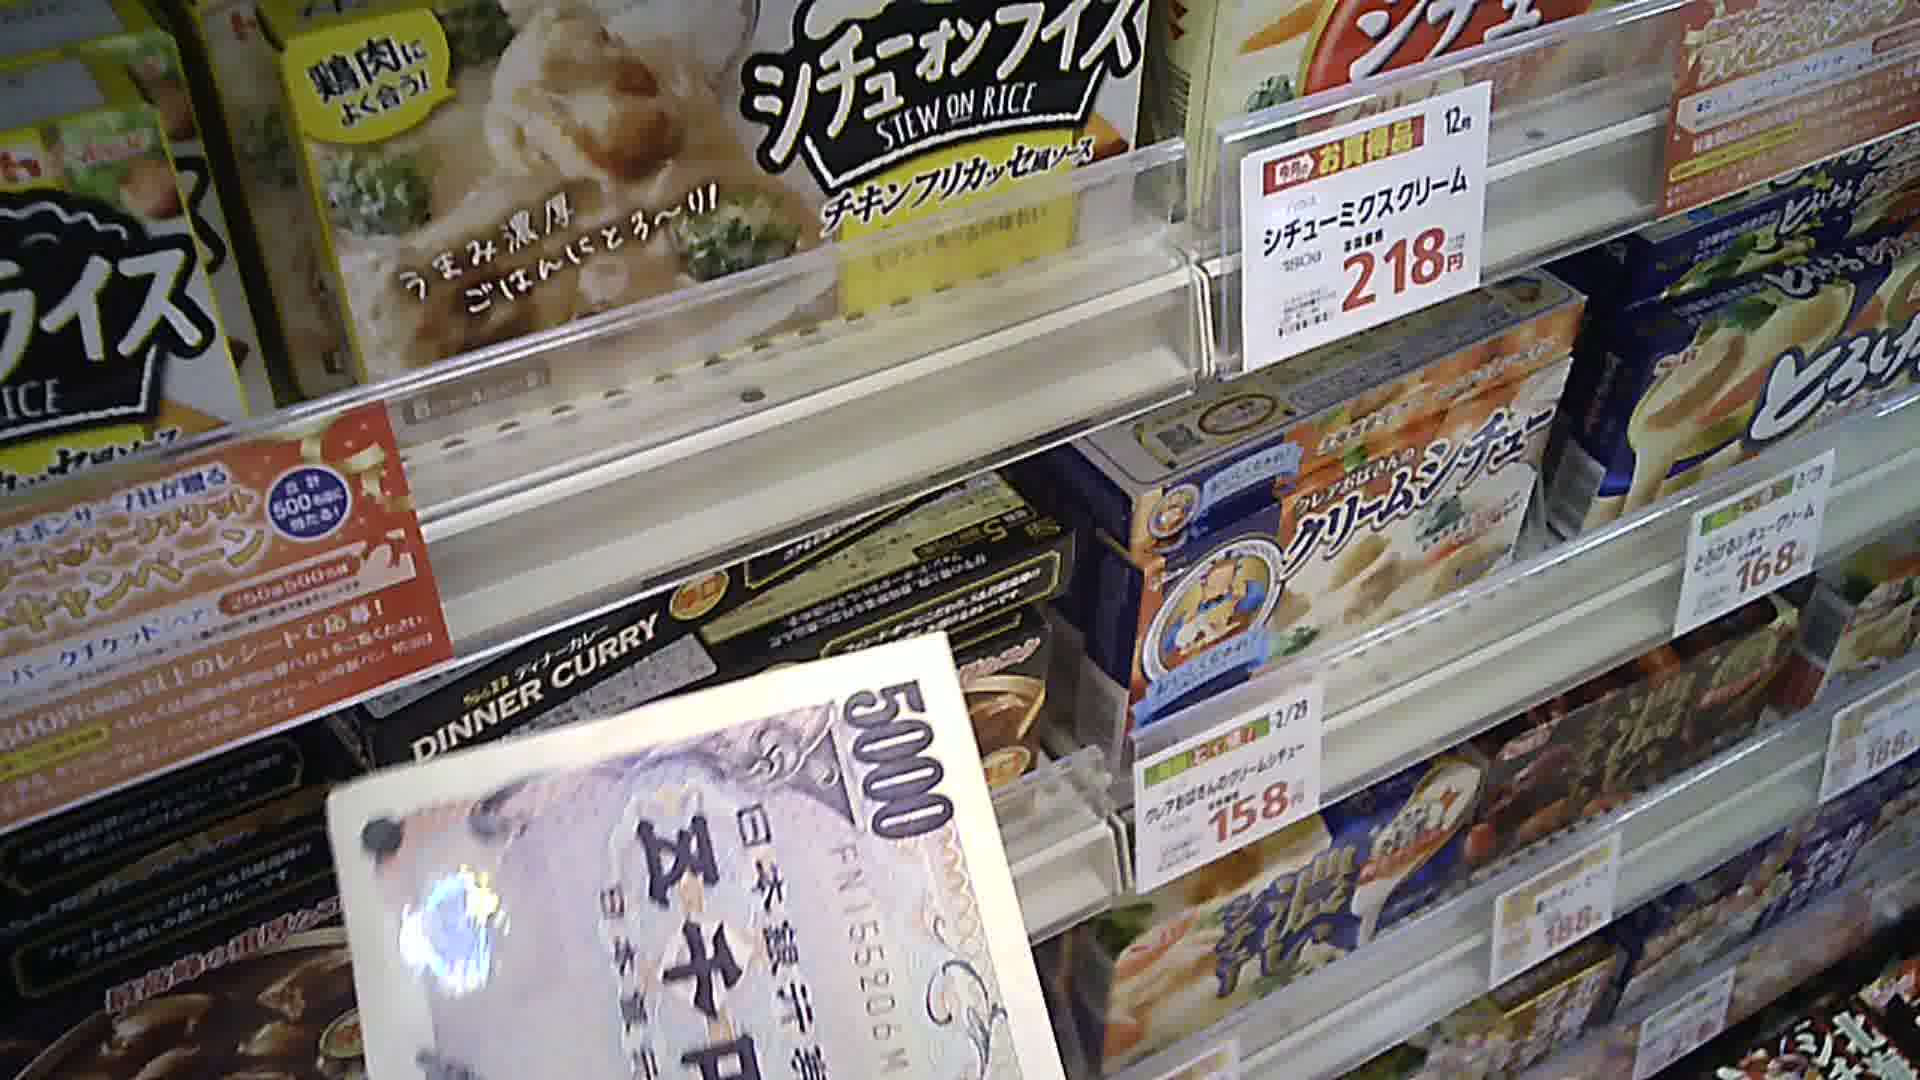5,000 Yen: (316, 645, 1035, 1068)
